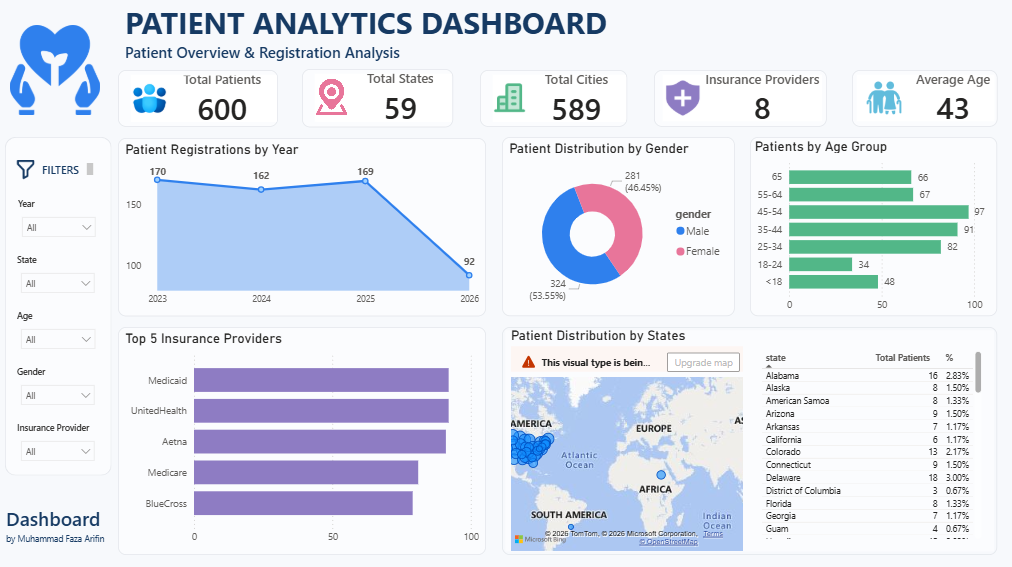

The dashboard page shown, as its layout file describes it:
{"tool":"powerbi","page":{"name":"Page 1","canvas":[1280,720],"ordinal":0},"visuals":[{"type":"cardVisual","title":"Total Patientes","fields":{"Data":["cleaned_patients.Total Patients"]},"box":[154,93,200,71],"z":0},{"type":"textbox","box":[162.7,8,636,49.3],"z":1000},{"type":"textbox","box":[162,58,355,25],"z":2000},{"type":"cardVisual","title":"Insurance Providers","fields":{"Data":["cleaned_patients.Total Insurance Providers"]},"box":[823.6,92.7,216.4,70.9],"z":3000},{"type":"cardVisual","title":"Total Cities","fields":{"Data":["cleaned_patients.Total Cities"]},"box":[605.7,92.9,184.3,71.4],"z":4000},{"type":"cardVisual","title":"Total States","fields":{"Data":["cleaned_patients.Total States"]},"box":[384.3,91.4,188.6,72.9],"z":5000},{"type":"cardVisual","title":"Average Age","fields":{"Data":["cleaned_patients.AVG Age"]},"box":[1070.9,92.7,181.8,70.9],"z":6000},{"type":"shape","box":[12.5,176.7,133.3,423.3],"z":7000},{"type":"textbox","box":[59.1,209.1,63.6,15.5],"z":8000},{"type":"areaChart","title":"Patient Registrations by Year","fields":{"Category":["cleaned_patients.registration_date.Variation.Date Hierarchy.Year"],"Y":["cleaned_patients.Total Patients"]},"box":[154.3,177.1,460,222.9],"z":9000},{"type":"donutChart","title":"Patient Distribution by Gender","fields":{"Y":["cleaned_patients.Total Patients"],"Category":["cleaned_patients.gender"]},"box":[634,176.4,290.9,223.6],"z":10000},{"type":"clusteredBarChart","title":"Patients by Age Group","fields":{"Category":["cleaned_patients.age_group"],"Y":["cleaned_patients.Total Patients"]},"box":[943.6,176.4,309.1,223.6],"z":11000},{"type":"clusteredBarChart","title":"Top 5 Insurance Providers","fields":{"Category":["cleaned_patients.insurance_provider"],"Y":["cleaned_patients.Total Patients"]},"box":[153.6,413.6,460,284.5],"z":12000},{"type":"shape","box":[633.6,413.6,619.1,284.5],"z":13000},{"type":"map","title":"Patient Distribution by States","fields":{"Category":["cleaned_patients.state"],"Size":["cleaned_patients.Total Patients"]},"box":[640,413.3,300,285.3],"z":14000},{"type":"tableEx","fields":{"Values":["cleaned_patients.state","cleaned_patients.Total Patients","cleaned_patients.persentage of state"]},"box":[952.5,438.1,286.2,245],"z":15000},{"type":"slicer","title":"Year","fields":{"Values":["cleaned_patients.registration_year"]},"box":[23.3,250.8,112,70],"z":16000},{"type":"slicer","title":"State","fields":{"Values":["cleaned_patients.state"]},"box":[23,320.9,112,70],"z":17000},{"type":"slicer","title":"Age","fields":{"Values":["cleaned_patients.age_group"]},"box":[23,390.9,112.7,70],"z":18000},{"type":"slicer","title":"Gender","fields":{"Values":["cleaned_patients.gender"]},"box":[23,460.9,112,70],"z":19000},{"type":"slicer","title":"Insurance Provider","fields":{"Values":["cleaned_patients.insurance_provider"]},"box":[23,530.9,112,70],"z":20000},{"type":"textbox","box":[9.2,630.8,140.8,67.7],"z":21000},{"type":"image","box":[0,17.3,150,150],"z":22000},{"type":"image","box":[22.7,201.8,29.1,30],"z":23000}]}

Visuals, with their boxes in screenshot pixels (x1, y1, x2, y2), scaled from the page's 1280x720 canvas onto the 1012x567 screenshot:
"Total Patientes" cardVisual: [122,73,280,129]
textbox: [129,6,631,45]
textbox: [128,46,409,65]
"Insurance Providers" cardVisual: [651,73,822,129]
"Total Cities" cardVisual: [479,73,625,129]
"Total States" cardVisual: [304,72,453,129]
"Average Age" cardVisual: [847,73,990,129]
shape: [10,139,115,472]
textbox: [47,165,97,177]
"Patient Registrations by Year" areaChart: [122,139,486,315]
"Patient Distribution by Gender" donutChart: [501,139,731,315]
"Patients by Age Group" clusteredBarChart: [746,139,990,315]
"Top 5 Insurance Providers" clusteredBarChart: [121,326,485,550]
shape: [501,326,990,550]
"Patient Distribution by States" map: [506,325,743,550]
tableEx - cleaned_patients.state x cleaned_patients.Total Patients: [753,345,979,538]
"Year" slicer: [18,198,107,253]
"State" slicer: [18,253,107,308]
"Age" slicer: [18,308,107,363]
"Gender" slicer: [18,363,107,418]
"Insurance Provider" slicer: [18,418,107,473]
textbox: [7,497,119,550]
image: [0,14,119,132]
image: [18,159,41,183]
